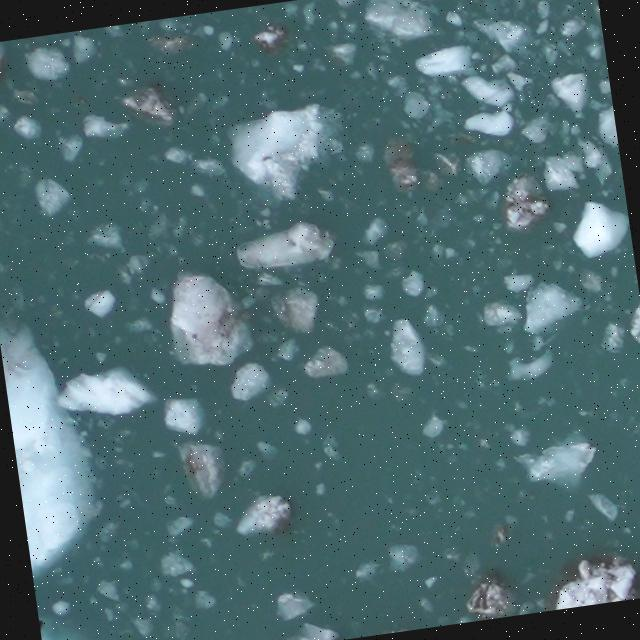seal: (38, 613, 52, 640)
